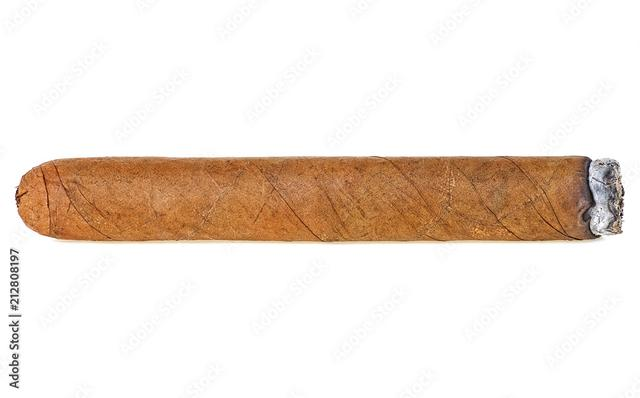Cigar: (15, 153, 625, 243)
